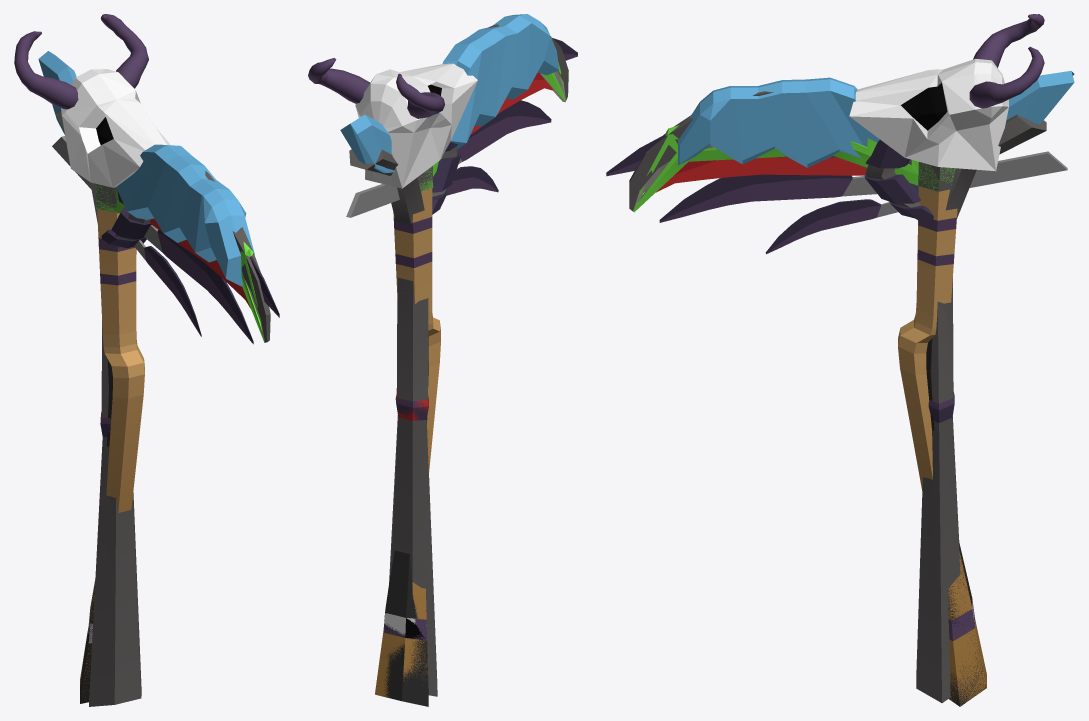
The model's file is Asalar5adet.fbx.
3 views of the same model, side by side, from view 1: azimuth 30°, elevation 25°; view 2: azimuth 150°, elevation 25°; view 3: azimuth 270°, elevation 25° (orthographic). The views are drawn at different scales.
Visible parts, largest first — view 1: Asa3, Asa4, Asa1, Asa5, Asa2; view 2: Asa3, Asa4, Asa5, Asa1, Asa2; view 3: Asa3, Asa4, Asa5, Asa2, Asa1.
Part boxes in pixels (x1,y1,x2,y2): Asa3: (14,14,254,702); Asa4: (89,190,279,706); Asa1: (80,171,270,703); Asa5: (52,112,250,705); Asa2: (85,184,265,665); Asa3: (308,14,558,697); Asa4: (389,38,577,696); Asa5: (346,72,553,653); Asa1: (384,24,568,706); Asa2: (384,37,565,676); Asa3: (677,14,1074,706); Asa4: (606,134,960,702); Asa5: (656,114,1067,696); Asa2: (633,125,967,706); Asa1: (629,91,986,706).
Bounding box in the file's own units: 0.3539 × 1.76 × 1.13.
